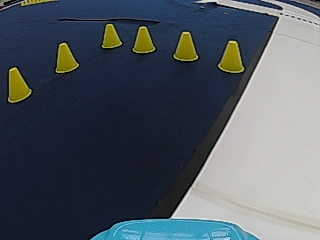cone: (218, 39, 245, 73), (7, 66, 31, 102), (174, 31, 198, 61), (55, 41, 78, 72), (132, 25, 155, 53), (101, 23, 122, 49)
